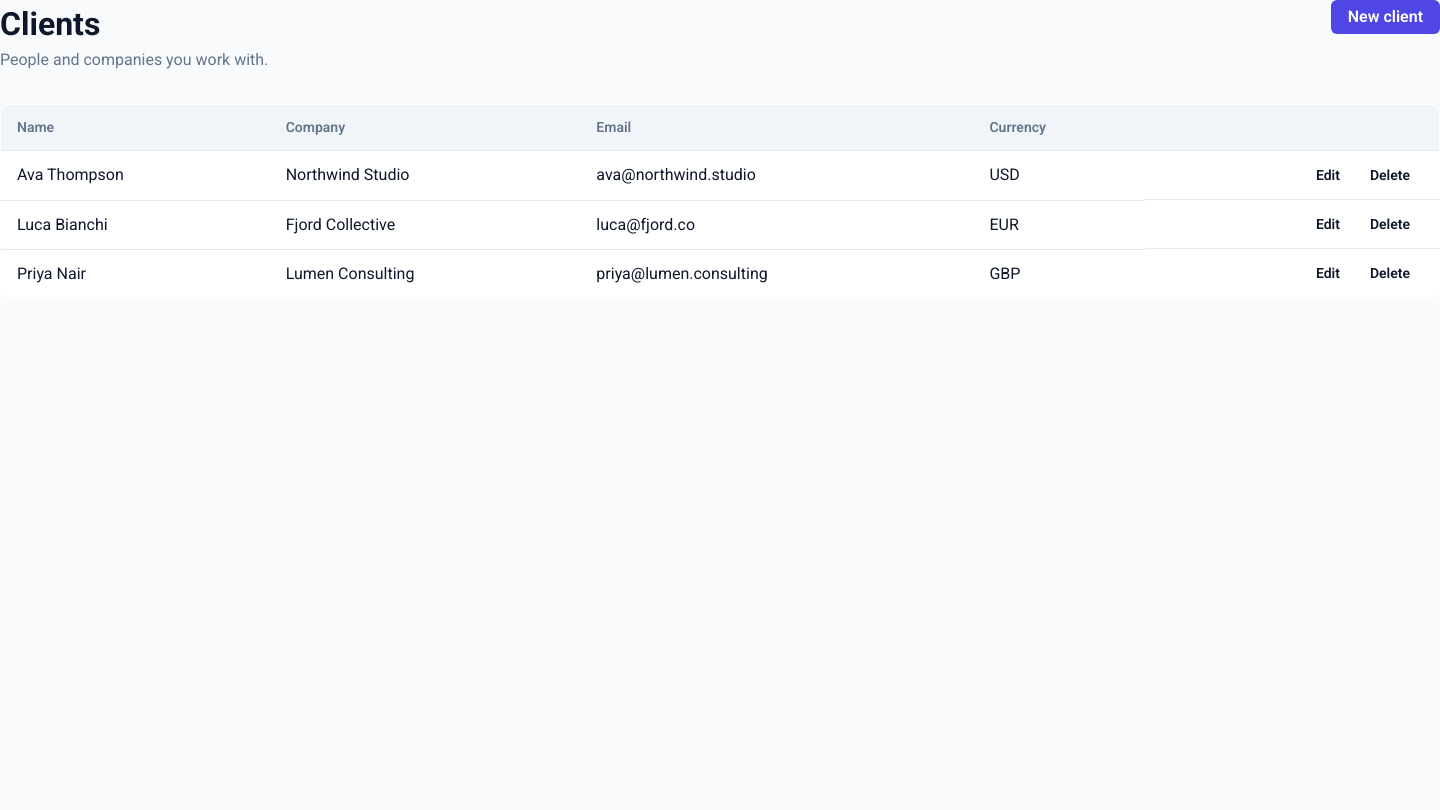
Test: ClientsPage — editing › changes the currency through the picker
The image size is (1440, 810).
Check: the text "Northwind Studio" is shown, box [270,151,580,200]
Click the button with aria-label "Edit Luca Bianchi" at (1328, 224), box [1303,212,1353,236]
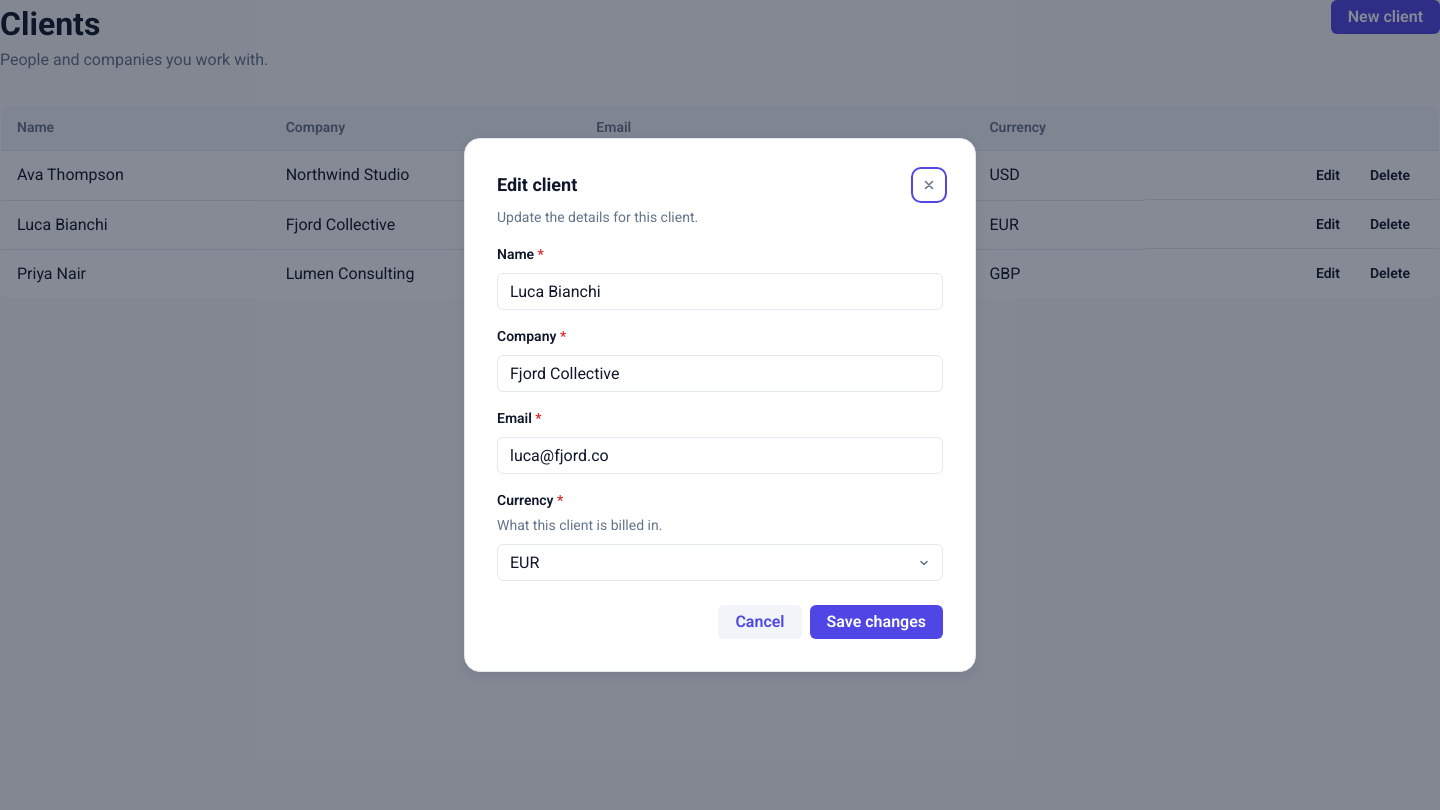
Check: the dropdown named "Currency" reads "EUR"
Click the dropdown named "Currency" at (525, 562), box [497,544,943,581]
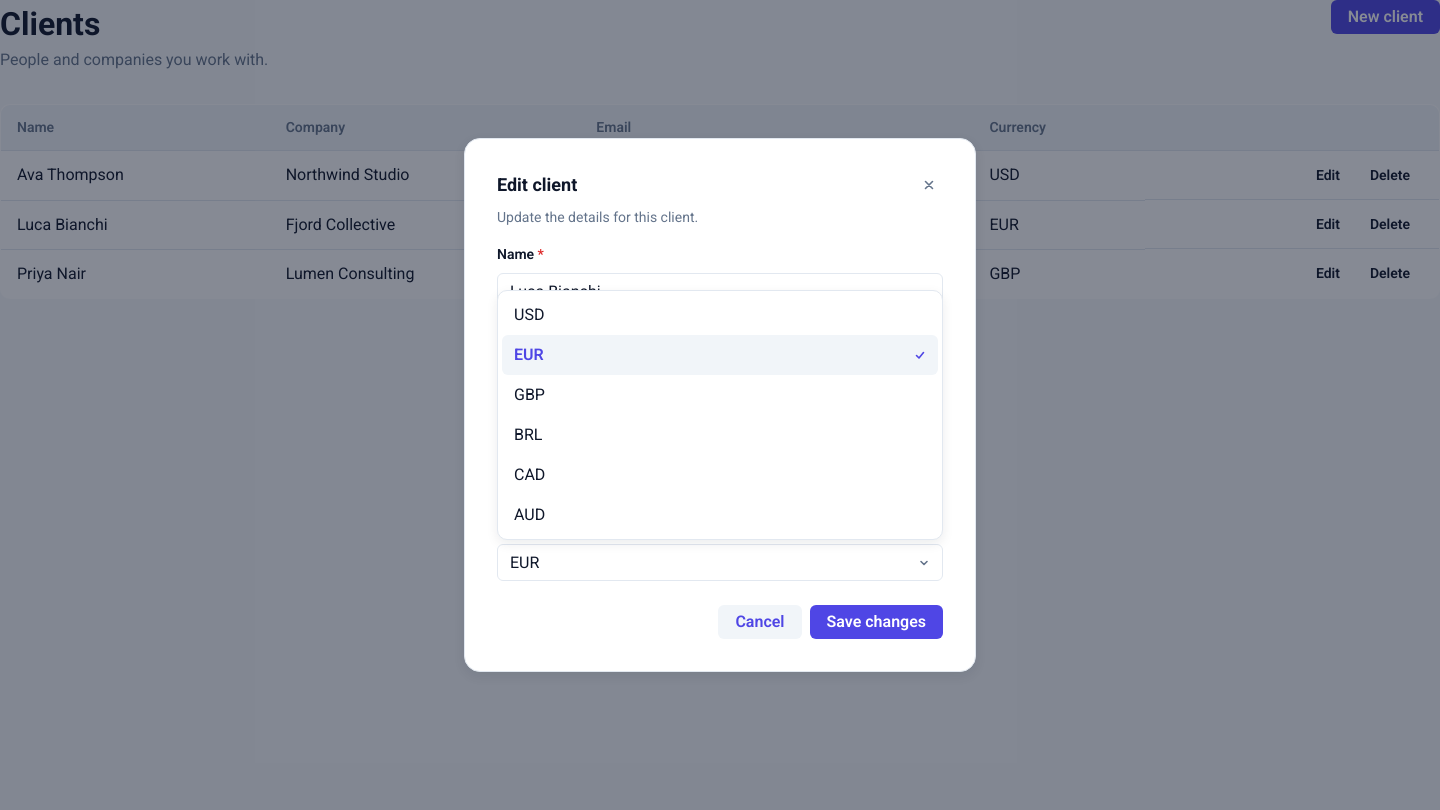
Note: The listbox is portalled, so it is not inside the dialog element.
Click the option "GBP" at (530, 394), box [514,385,545,404]
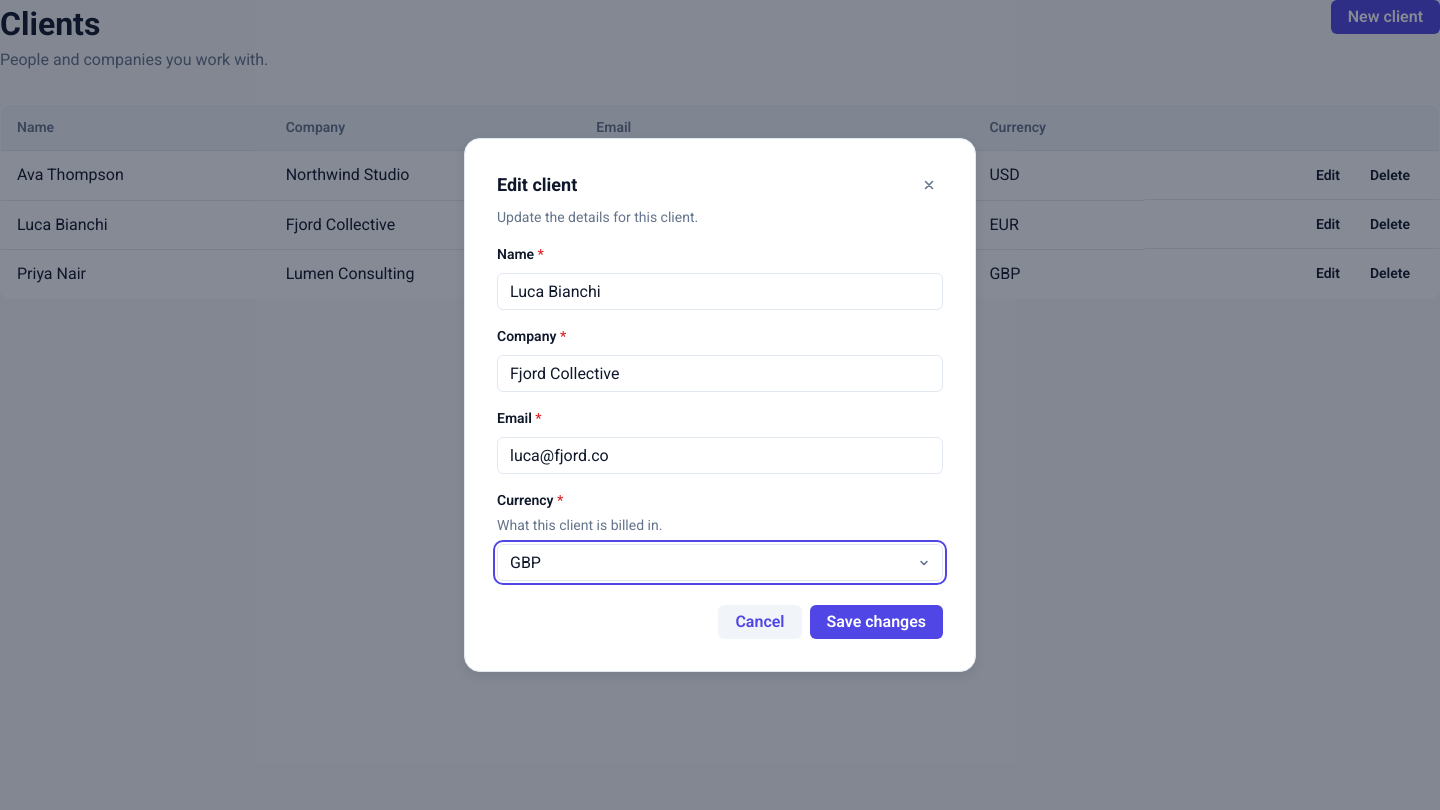
Click the button "Save changes" at (876, 622), box [810,605,943,639]
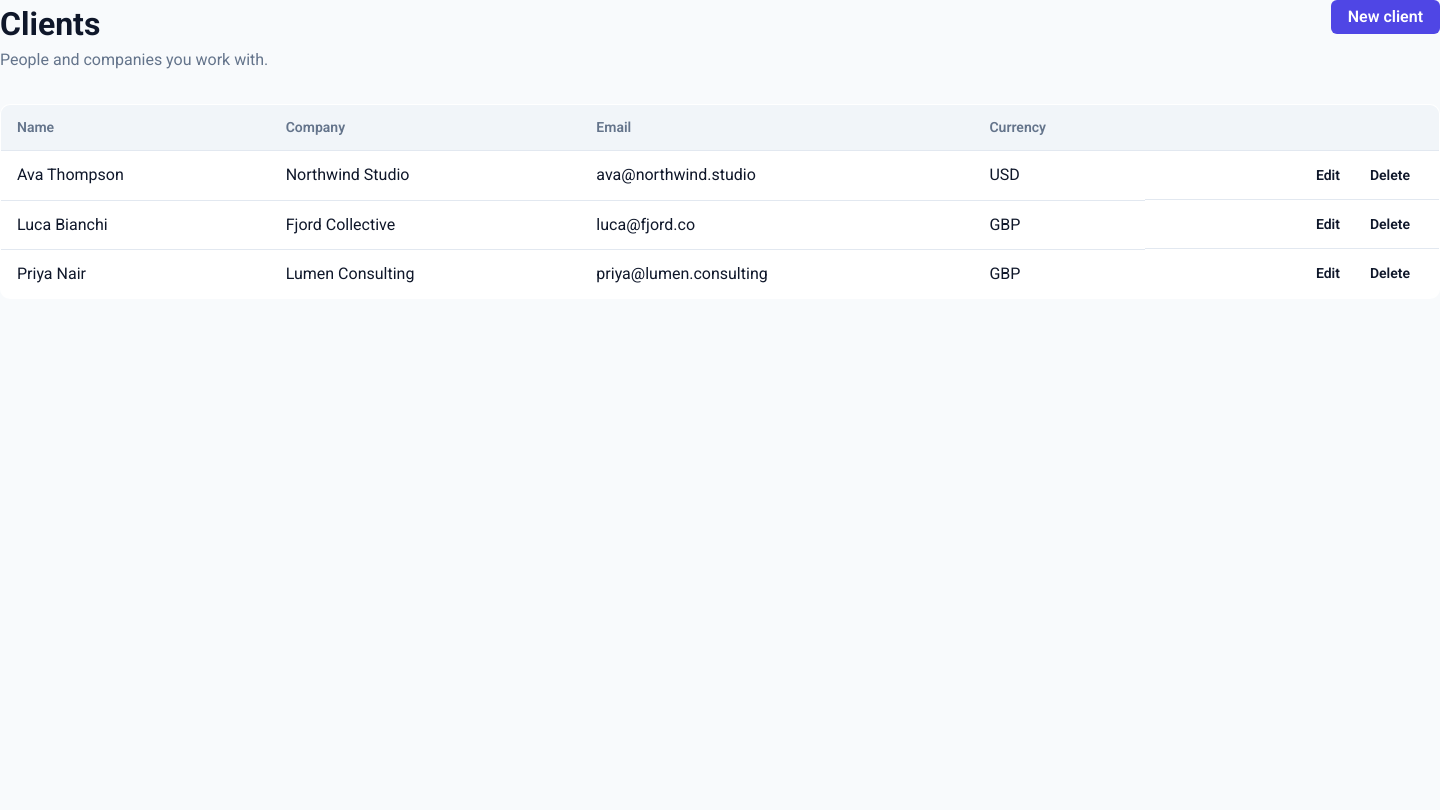
Check: the text "Fjord Collective" shows "GBP", box [989,214,1020,234]
